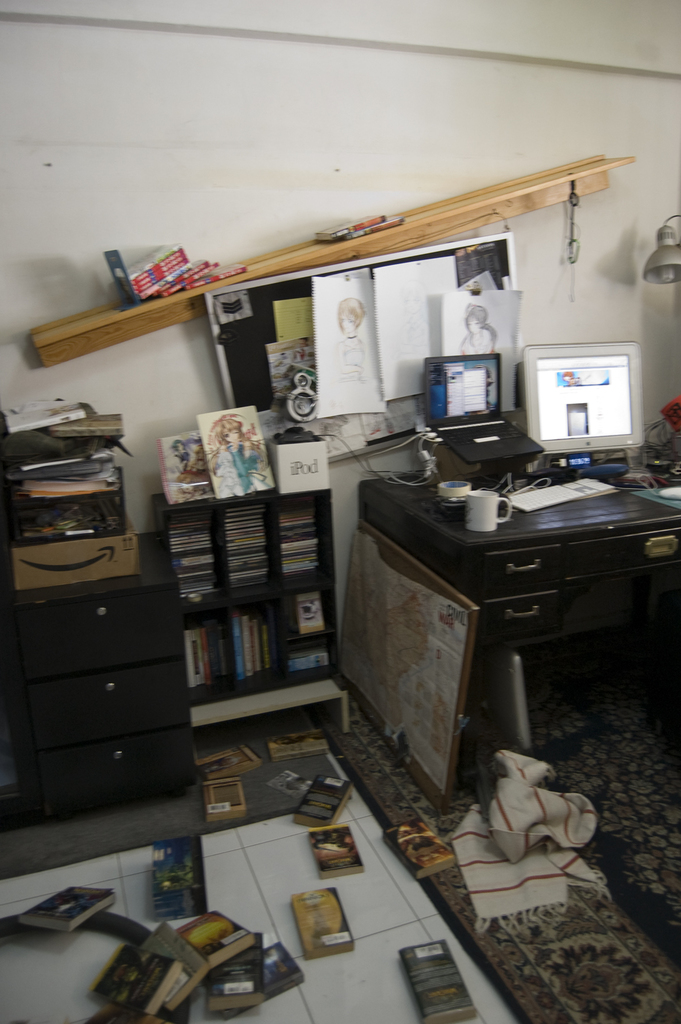cabinet door: (40, 661, 186, 732), (27, 594, 177, 661), (46, 734, 189, 795), (566, 526, 681, 572), (483, 550, 552, 593), (492, 600, 551, 643)
handle: (503, 599, 543, 629), (642, 533, 678, 560), (508, 555, 538, 579), (102, 671, 118, 703), (95, 603, 109, 629), (110, 750, 123, 765)
